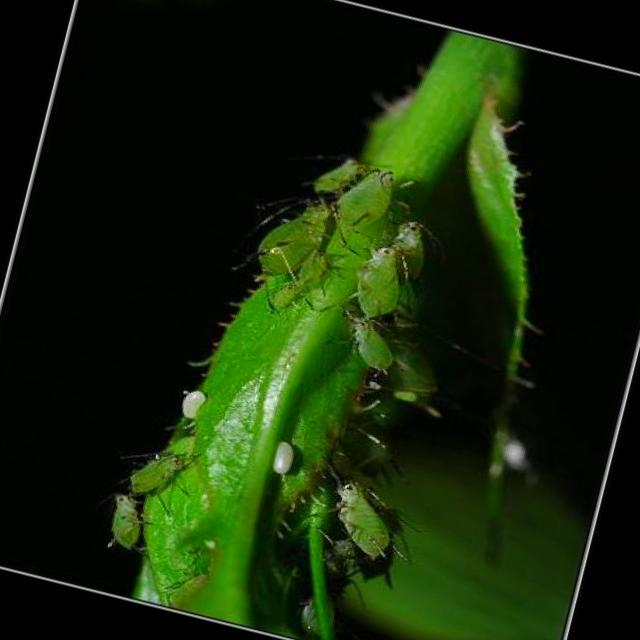aphid: (293, 458, 411, 572), (238, 182, 344, 292), (86, 480, 162, 580), (346, 237, 416, 327), (124, 442, 188, 504)
